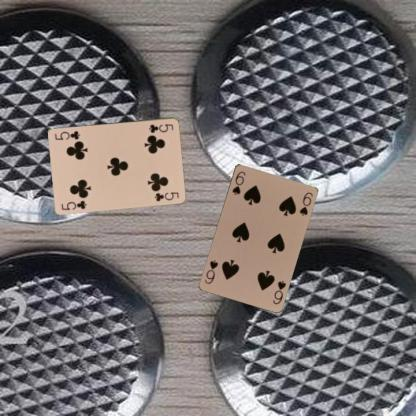5c: (59, 197, 88, 211), (147, 121, 174, 134)
6s: (229, 168, 247, 196), (270, 278, 287, 306)
